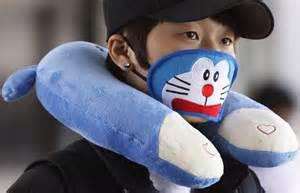WRONG: (146, 19, 236, 126)
